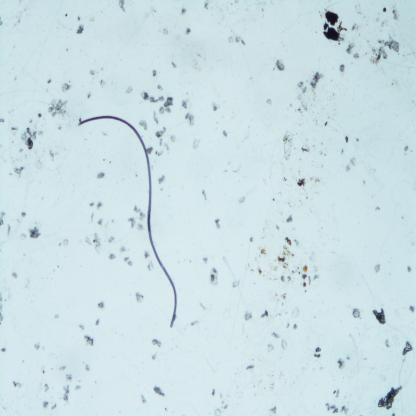Background material: (264, 232, 320, 290), (319, 6, 349, 46), (139, 88, 175, 116), (372, 40, 400, 66), (375, 386, 405, 410), (127, 201, 146, 233), (20, 124, 40, 153), (84, 232, 105, 254), (295, 80, 309, 112), (48, 99, 69, 119), (324, 401, 352, 415), (282, 128, 293, 162), (207, 264, 220, 289), (370, 307, 387, 325), (142, 249, 154, 272), (0, 213, 12, 235), (311, 72, 324, 91), (272, 58, 286, 75), (344, 156, 358, 173), (137, 114, 149, 133), (26, 227, 42, 241), (295, 141, 310, 155), (334, 355, 347, 371), (312, 345, 324, 362), (228, 34, 246, 45), (402, 342, 414, 358), (184, 112, 196, 128), (12, 166, 25, 180), (83, 332, 95, 347), (134, 288, 144, 305), (191, 136, 203, 150), (296, 175, 308, 188), (153, 385, 165, 398), (213, 218, 223, 233), (88, 200, 103, 210), (155, 126, 167, 138), (122, 255, 134, 267), (209, 98, 221, 110), (12, 378, 24, 390), (61, 81, 72, 94), (151, 337, 162, 350), (64, 383, 71, 403), (76, 24, 86, 38), (138, 392, 148, 406), (159, 23, 169, 37), (145, 143, 154, 158), (285, 211, 294, 226), (342, 134, 354, 145), (373, 262, 382, 276), (212, 407, 226, 416), (118, 1, 127, 15), (124, 83, 134, 95), (352, 307, 362, 319), (96, 170, 106, 182), (32, 340, 42, 352), (404, 144, 412, 158), (272, 327, 280, 341), (98, 298, 106, 312), (63, 372, 74, 382), (260, 308, 270, 319), (346, 42, 355, 54), (199, 188, 208, 200), (391, 10, 400, 22), (0, 292, 3, 328), (314, 173, 321, 188), (108, 252, 118, 262), (88, 68, 97, 79), (266, 342, 275, 353), (9, 269, 18, 280), (181, 98, 189, 110), (338, 62, 346, 74), (384, 338, 392, 350), (331, 388, 339, 400), (180, 5, 187, 18), (157, 175, 166, 185), (184, 26, 193, 36), (84, 362, 91, 374), (42, 400, 50, 410), (280, 338, 286, 351), (324, 116, 330, 128), (108, 236, 116, 245), (352, 52, 360, 61), (408, 304, 416, 313), (258, 249, 266, 258), (96, 217, 104, 226), (269, 405, 277, 414), (281, 294, 289, 303), (220, 130, 227, 140), (44, 383, 50, 393), (256, 265, 262, 275), (157, 148, 165, 155), (52, 402, 59, 410), (150, 69, 157, 77), (210, 388, 217, 396), (46, 77, 53, 85), (36, 111, 44, 118), (245, 364, 252, 372), (0, 344, 5, 355), (94, 318, 100, 327), (406, 266, 412, 274), (285, 322, 292, 328), (172, 60, 176, 70), (293, 324, 298, 329)
Glass filter fibre: (222, 255, 249, 315)
Microfibre: (77, 115, 182, 331)
